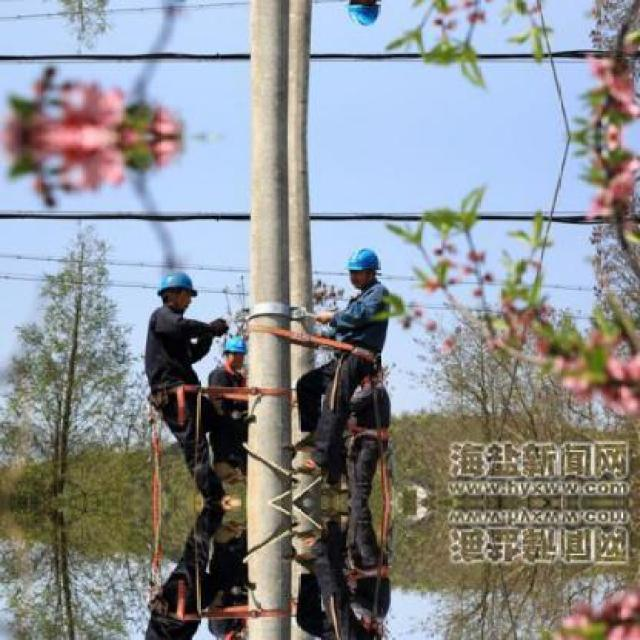helmet: (154, 268, 200, 310), (344, 243, 382, 289), (343, 0, 383, 32), (220, 335, 245, 367)
